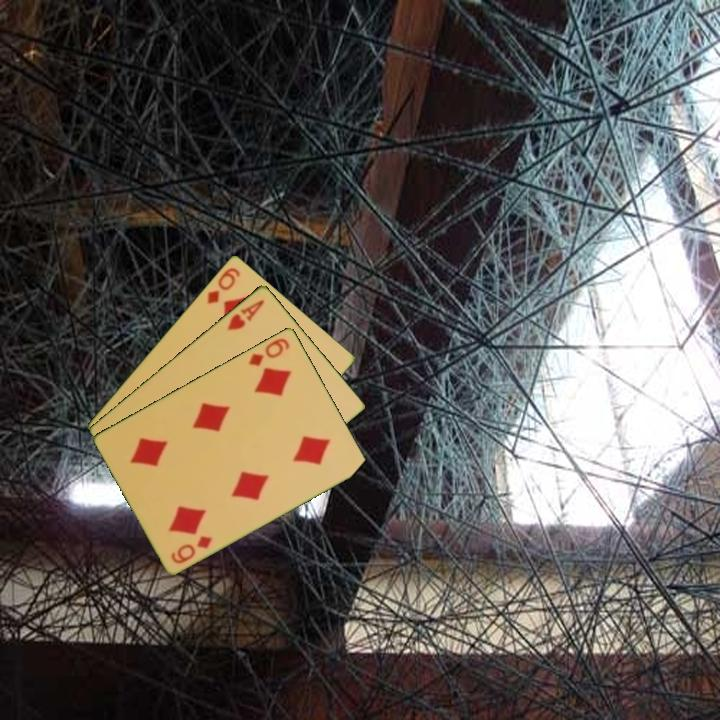6d: (203, 264, 243, 306), (245, 334, 293, 369), (167, 532, 215, 566)
Ah: (224, 295, 268, 333)
